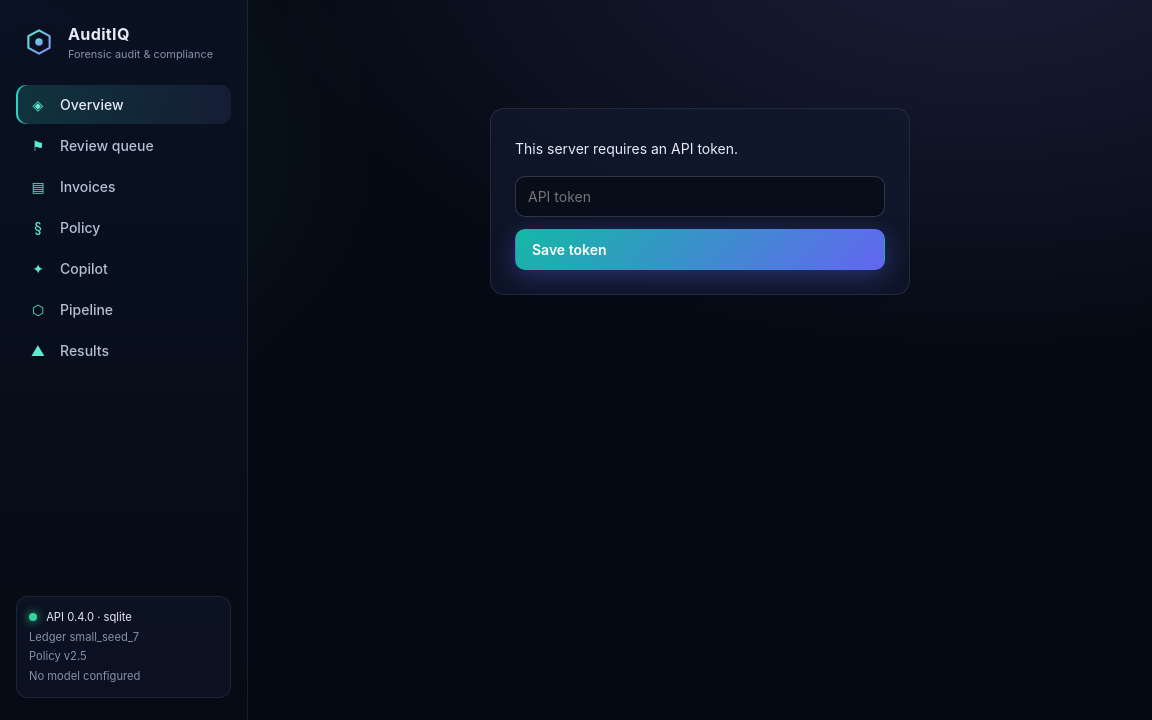
Test: the application shell › asks for the API token when the server requires one
Expected: the text "This server requires an API token." is shown, top-left (515, 140), bottom-right (738, 157)
Expected: the text "the page" is not shown
Type "t0ken" into the password field labelled "API token" at (700, 196), box top-left (515, 176), bottom-right (885, 217)
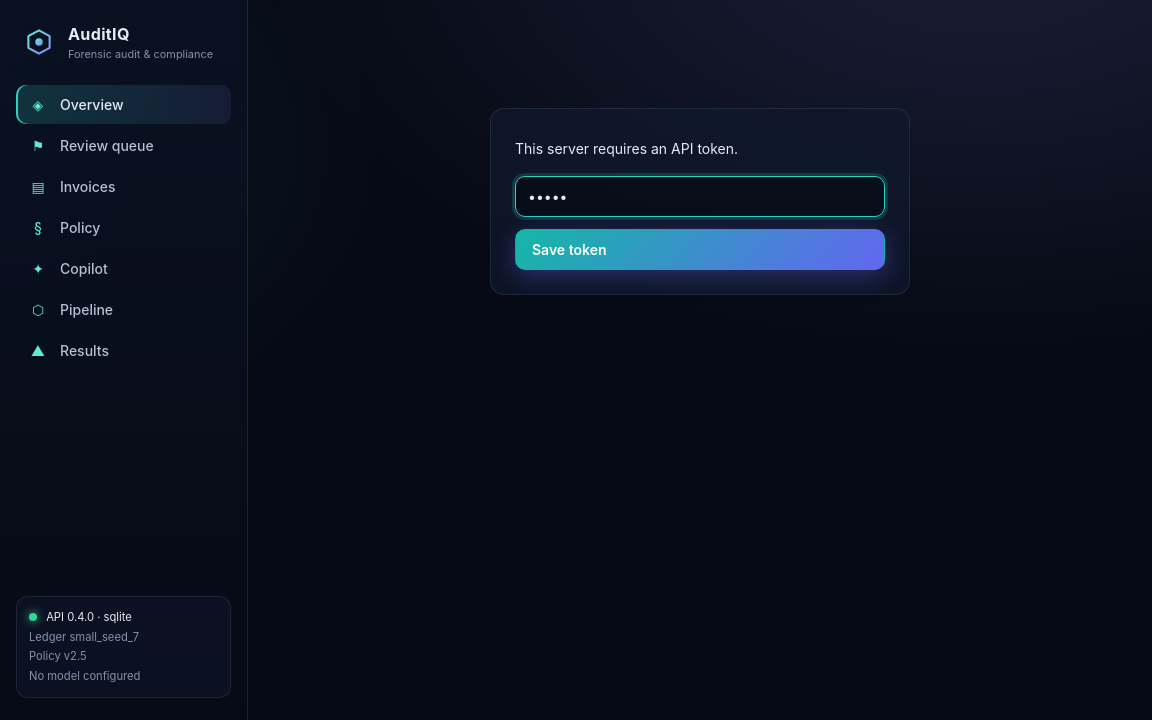
Click the button "Save token" at (569, 249), box top-left (515, 229), bottom-right (885, 270)
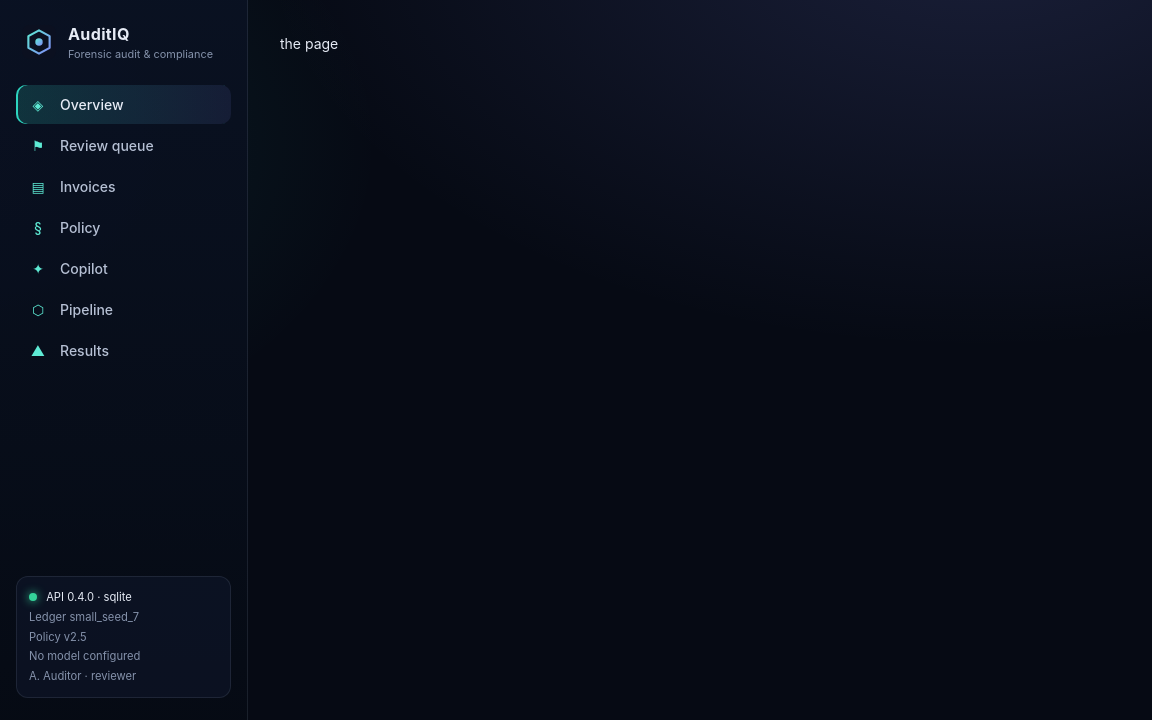
Result: the text "the page" is shown at top-left (280, 35), bottom-right (338, 52)
Result: the text named "Signed in" reads "A. Auditor · reviewer" at top-left (29, 669), bottom-right (136, 683)
